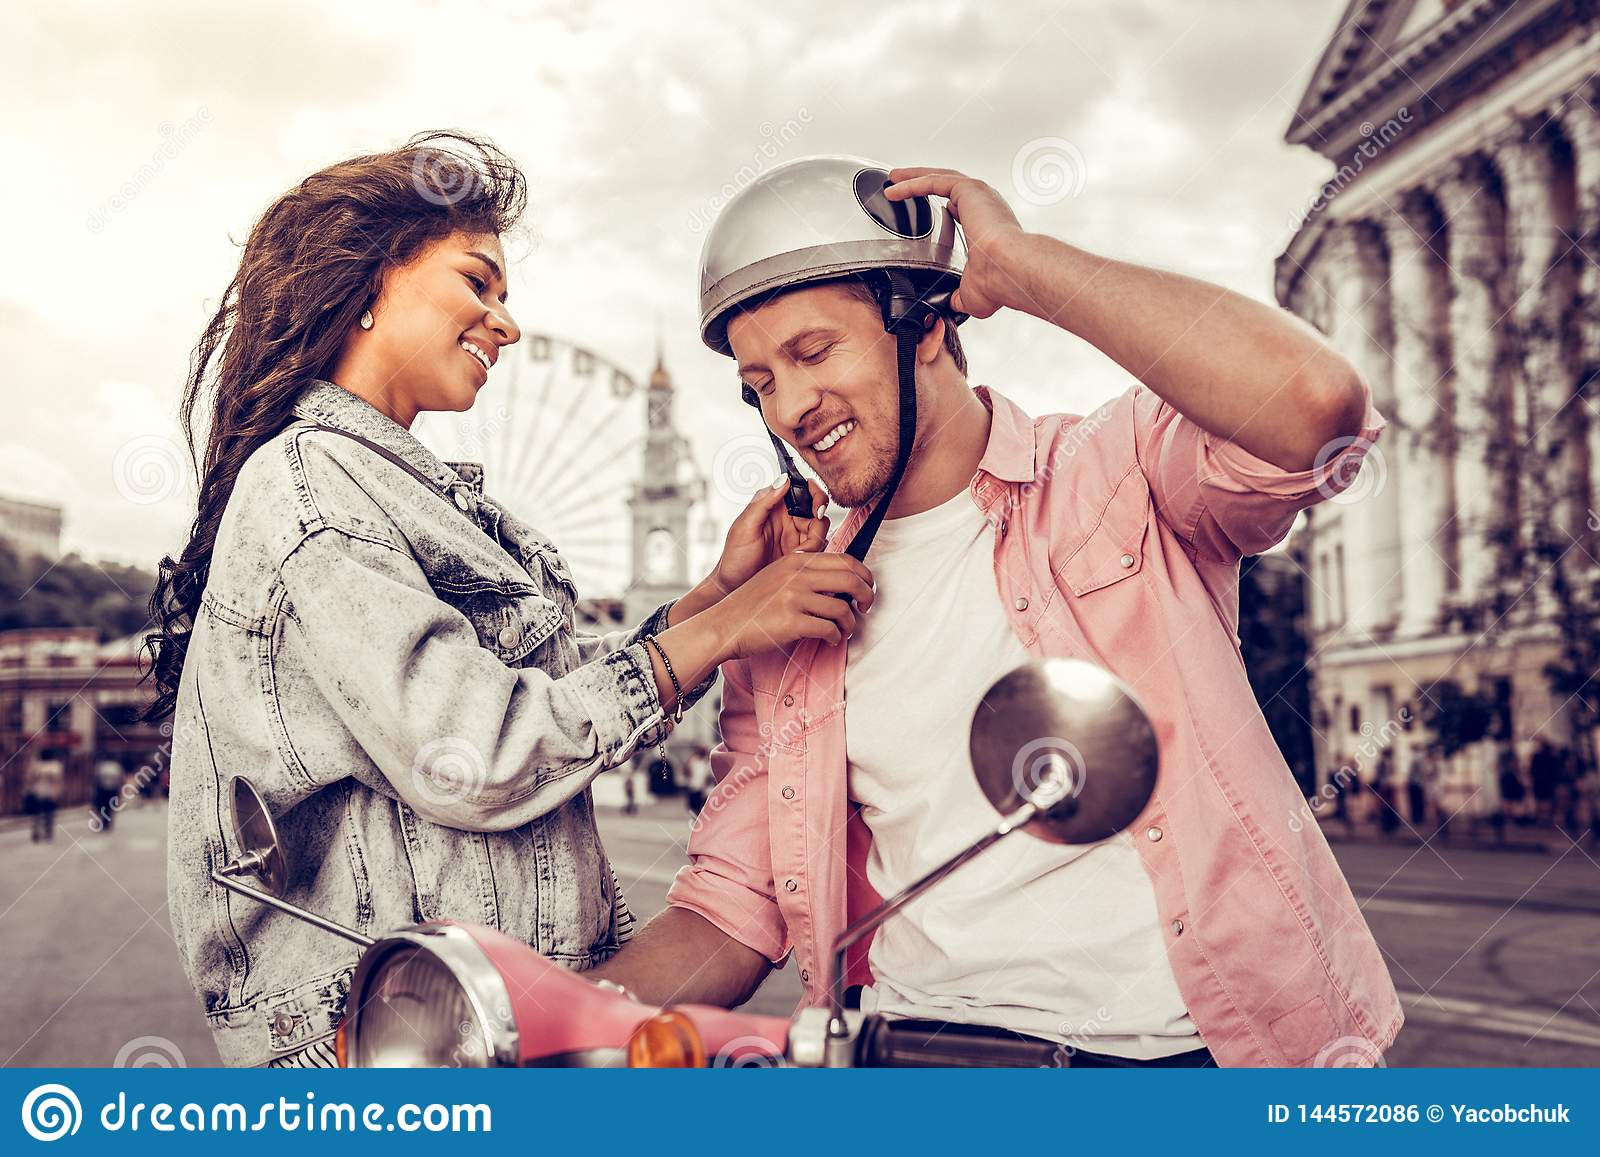helmet: (662, 153, 1000, 323)
